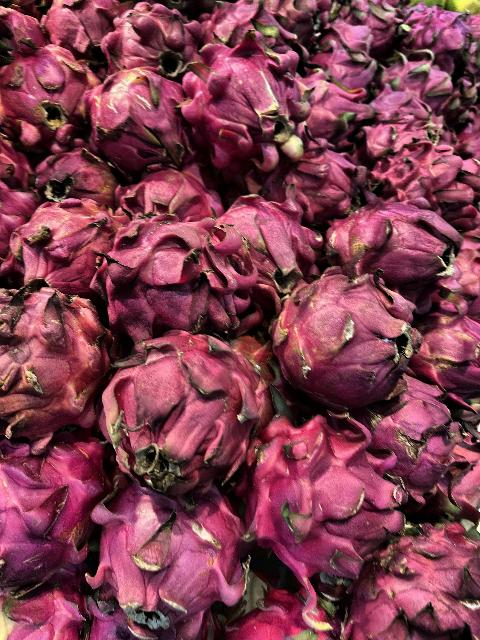buah-naga-belum-matang: (182, 36, 314, 160), (88, 68, 192, 164), (414, 296, 480, 409)
buah-naga-matang: (108, 332, 294, 494), (250, 414, 412, 580), (271, 265, 430, 411), (93, 486, 251, 624), (106, 208, 256, 342), (0, 280, 116, 448), (0, 441, 98, 595), (324, 195, 462, 302), (214, 193, 322, 303), (20, 192, 118, 296), (0, 33, 84, 144), (364, 562, 480, 640), (372, 144, 480, 226), (377, 392, 455, 494), (111, 159, 225, 223), (294, 74, 372, 156), (284, 146, 374, 214), (31, 146, 117, 208), (312, 44, 380, 96)
